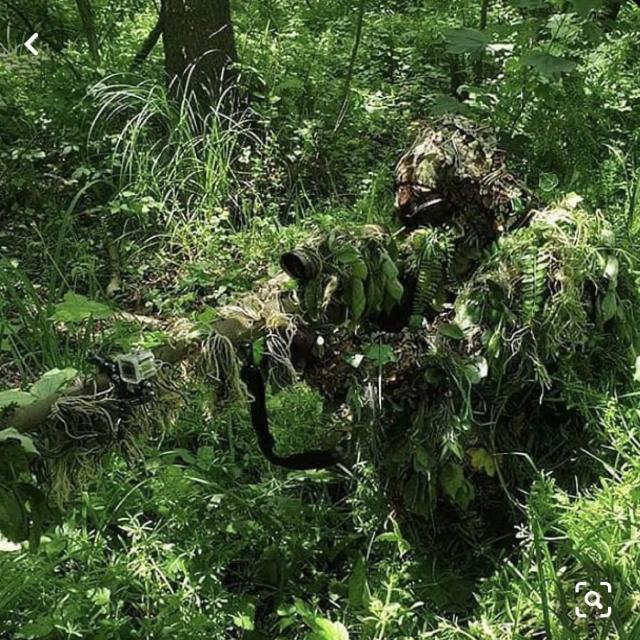camouflaged: (0, 295, 199, 552), (206, 306, 273, 457)
human: (376, 115, 587, 614)
